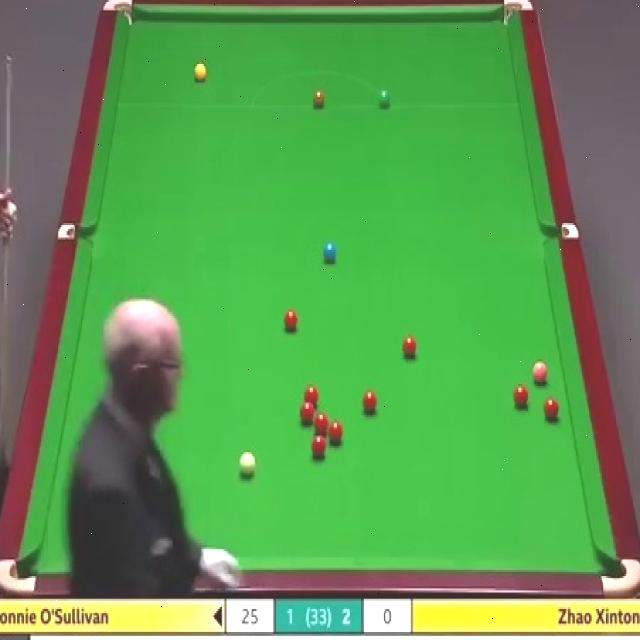blue-ball: (324, 240, 336, 264)
brown-ball: (312, 90, 327, 108)
green-ball: (376, 87, 392, 110)
pink-ball: (531, 361, 548, 384)
red-ball: (361, 388, 378, 417), (543, 397, 561, 421), (310, 436, 326, 462), (401, 334, 418, 358), (282, 305, 297, 332), (513, 383, 528, 409), (330, 420, 343, 448), (302, 386, 320, 406), (315, 412, 328, 438), (300, 404, 314, 426)
white-ball: (238, 450, 256, 479)
yellow-ball: (194, 61, 208, 84)
